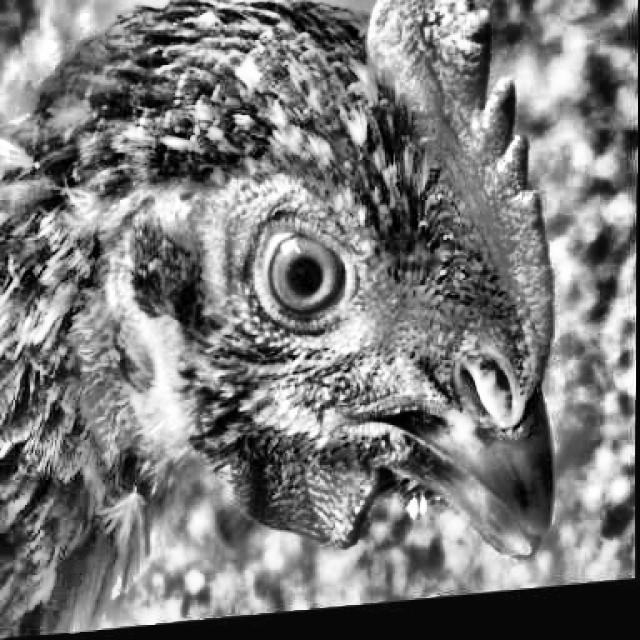Healthy: (222, 200, 370, 358)
